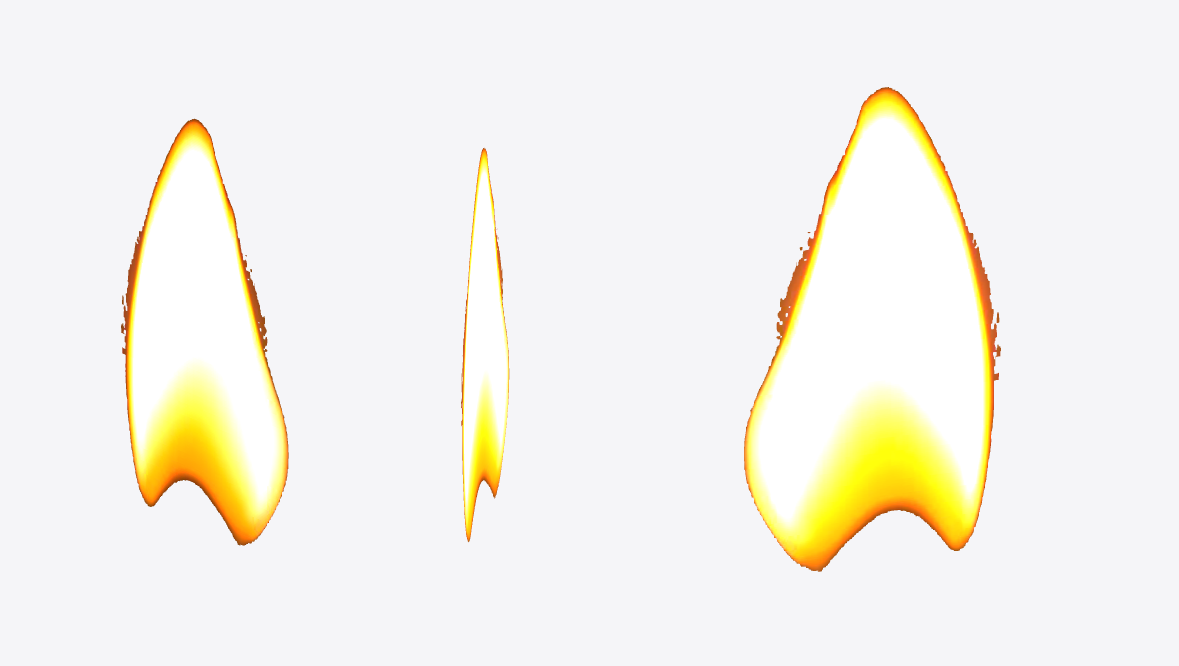
3 views of the same model, side by side, from view 1: azimuth 30°, elevation 25°; view 2: azimuth 150°, elevation 25°; view 3: azimuth 270°, elevation 25° (orthographic). The views are drawn at different scales.
Parts seen in each view (by area): view 1: _149; view 2: _149; view 3: _149.
Part boxes in pixels (x1,y1,x2,y2): _149: (121, 118, 288, 545); _149: (461, 148, 509, 541); _149: (744, 87, 1000, 571).
Size of the model in its own units: 2.04 by 7.1 by 6.8.
